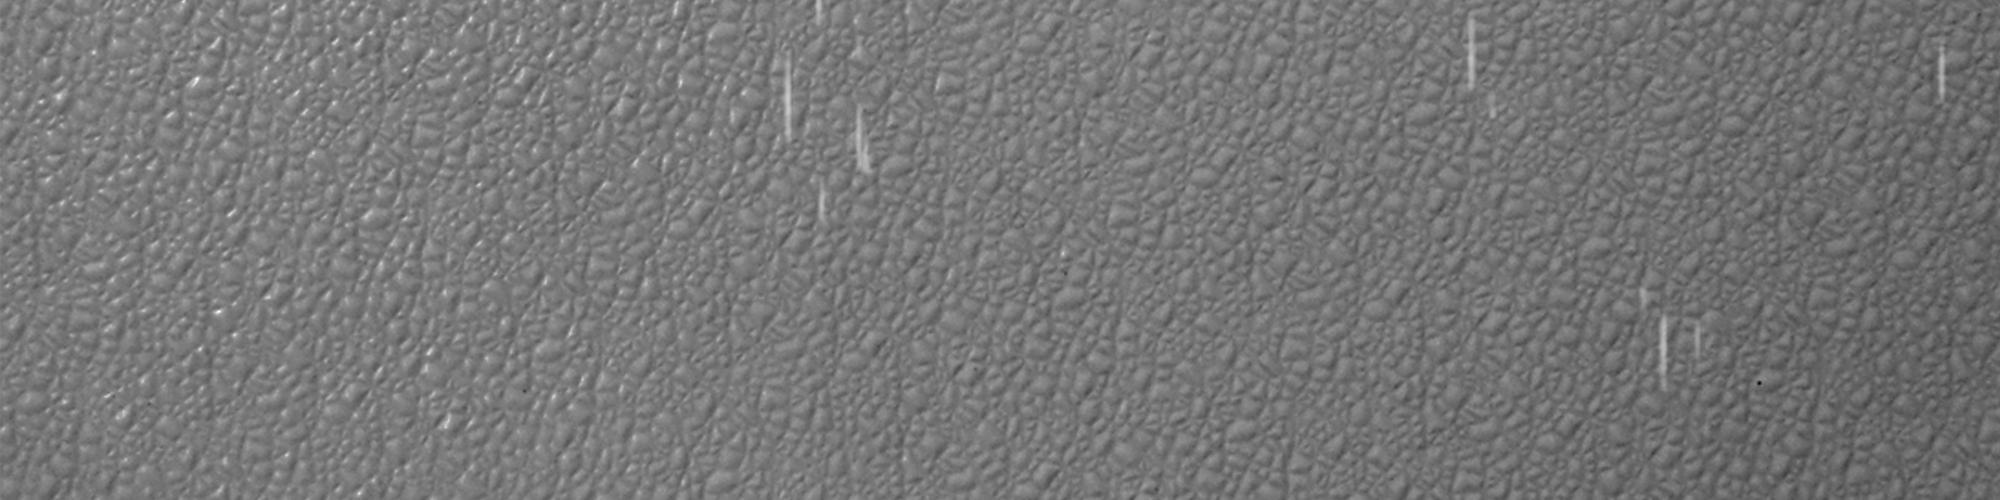Streaks: (1457, 10, 1505, 130), (1634, 279, 1680, 397), (769, 40, 802, 153), (848, 99, 881, 189), (807, 3, 834, 42), (815, 176, 834, 230), (1687, 311, 1702, 367)
